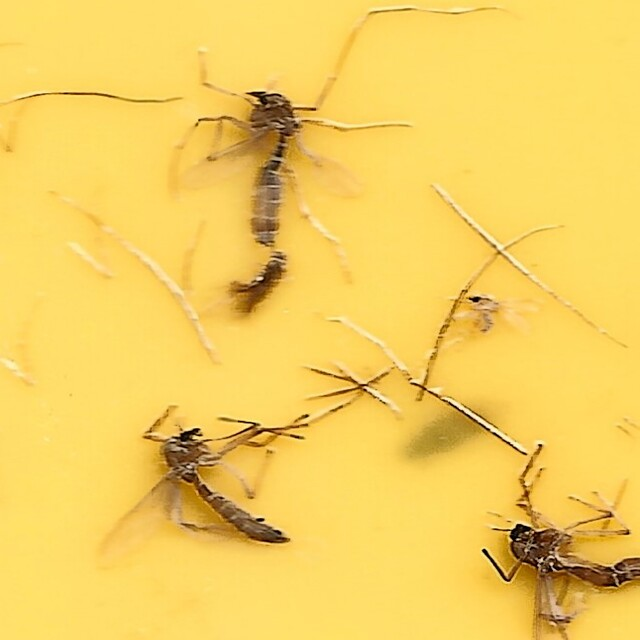Nematocera: (177, 83, 363, 259), (99, 399, 291, 557), (457, 292, 541, 359)
